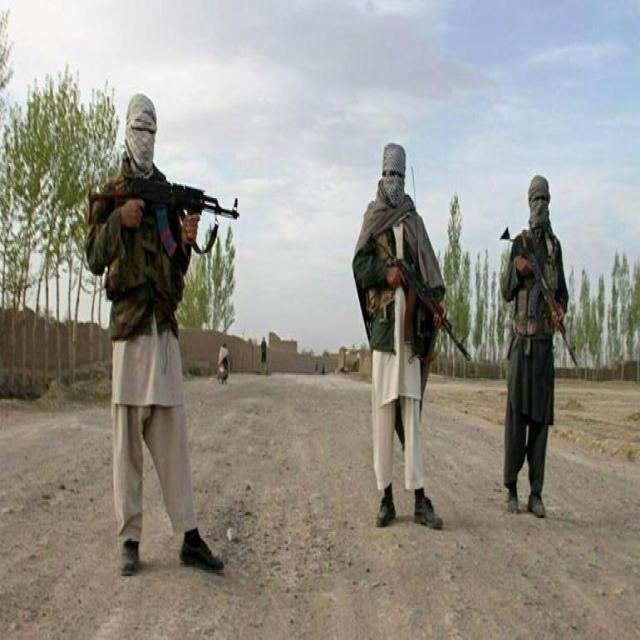Militant: (84, 71, 240, 594), (338, 97, 459, 578), (499, 135, 566, 537)
